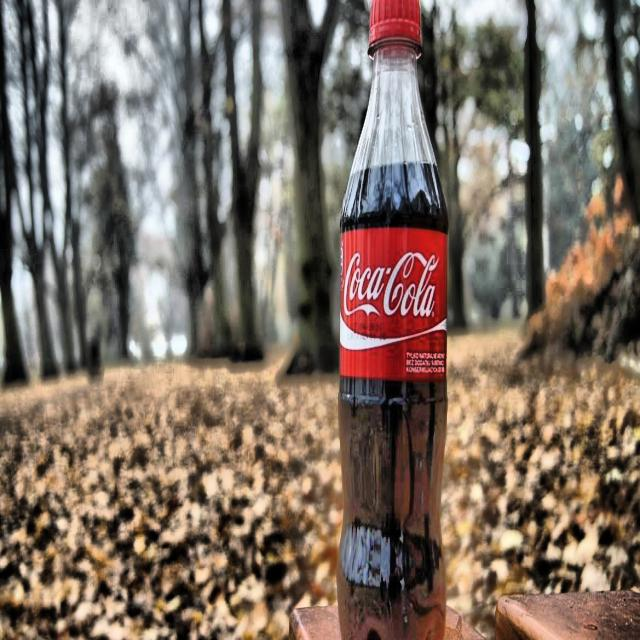Bottles: (320, 2, 467, 640)
